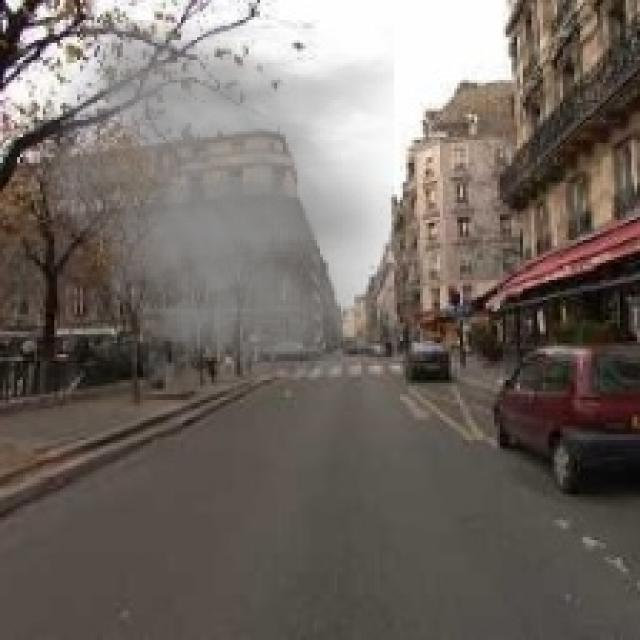smoke: (23, 20, 394, 377)
